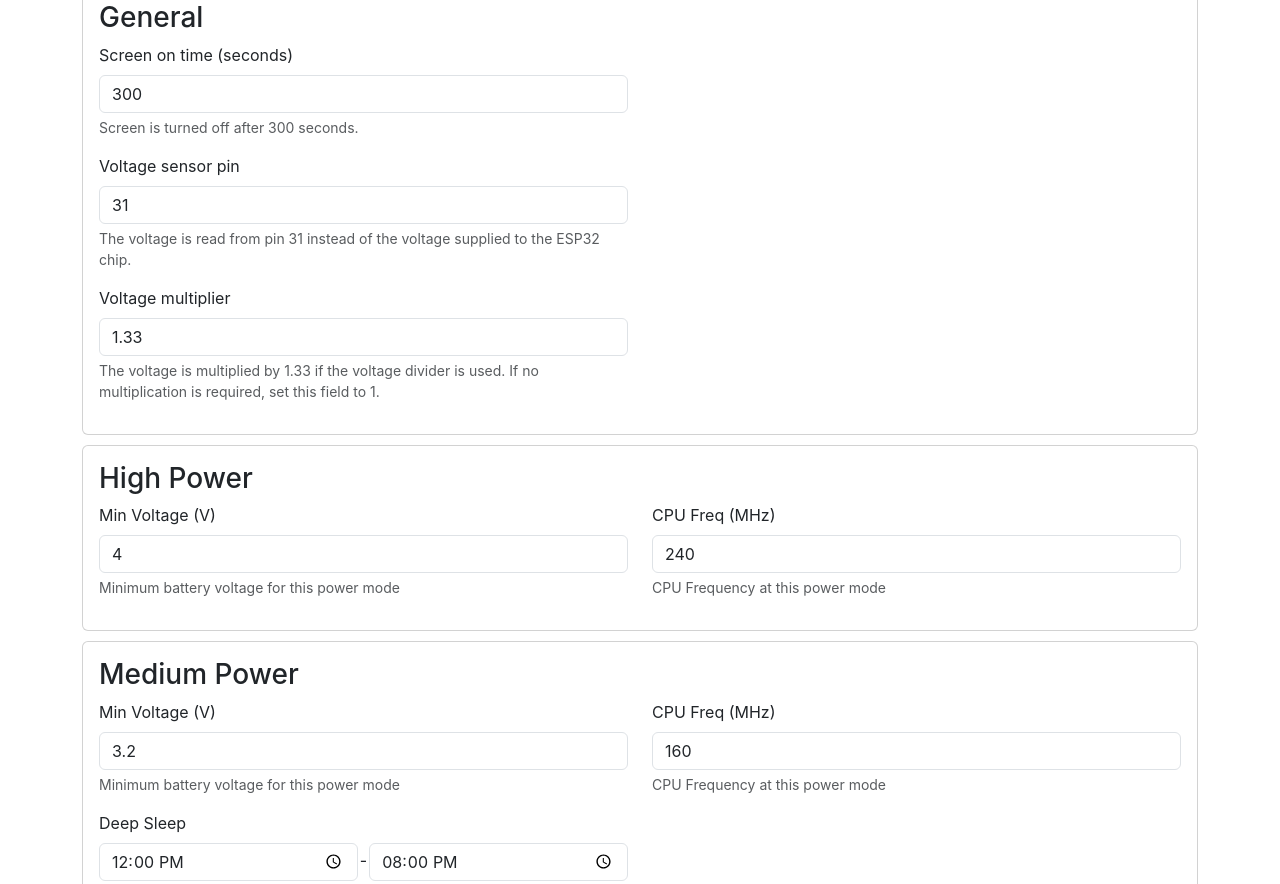
Test: when saving › validation error when incorrect screen on time
Clear the number field with test id "screen-on-seconds" at (364, 94), box [99,75,628,113]
(page scrolled)
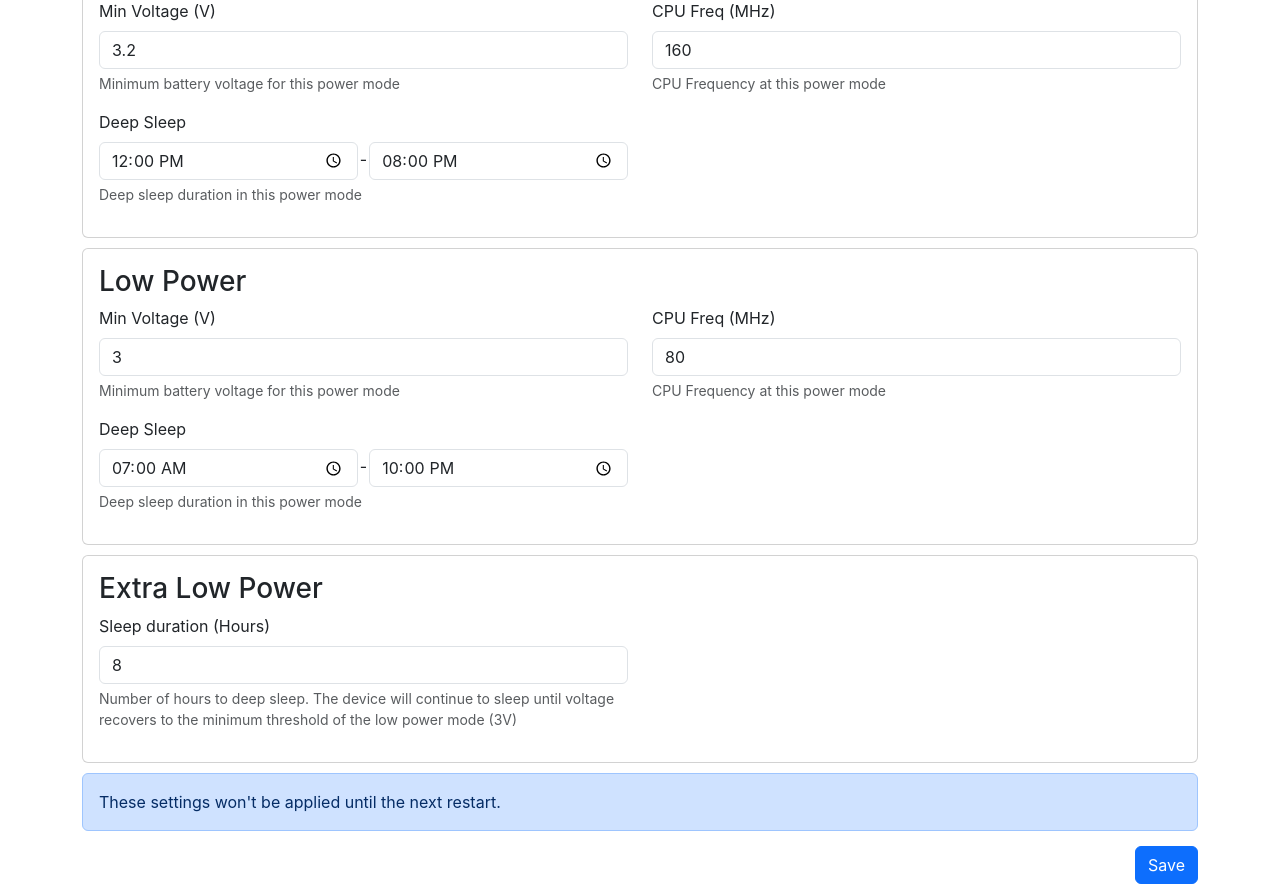
Click the button with test id "save-button".
click(1166, 865)  # box [1135,846,1198,883]
(page scrolled)
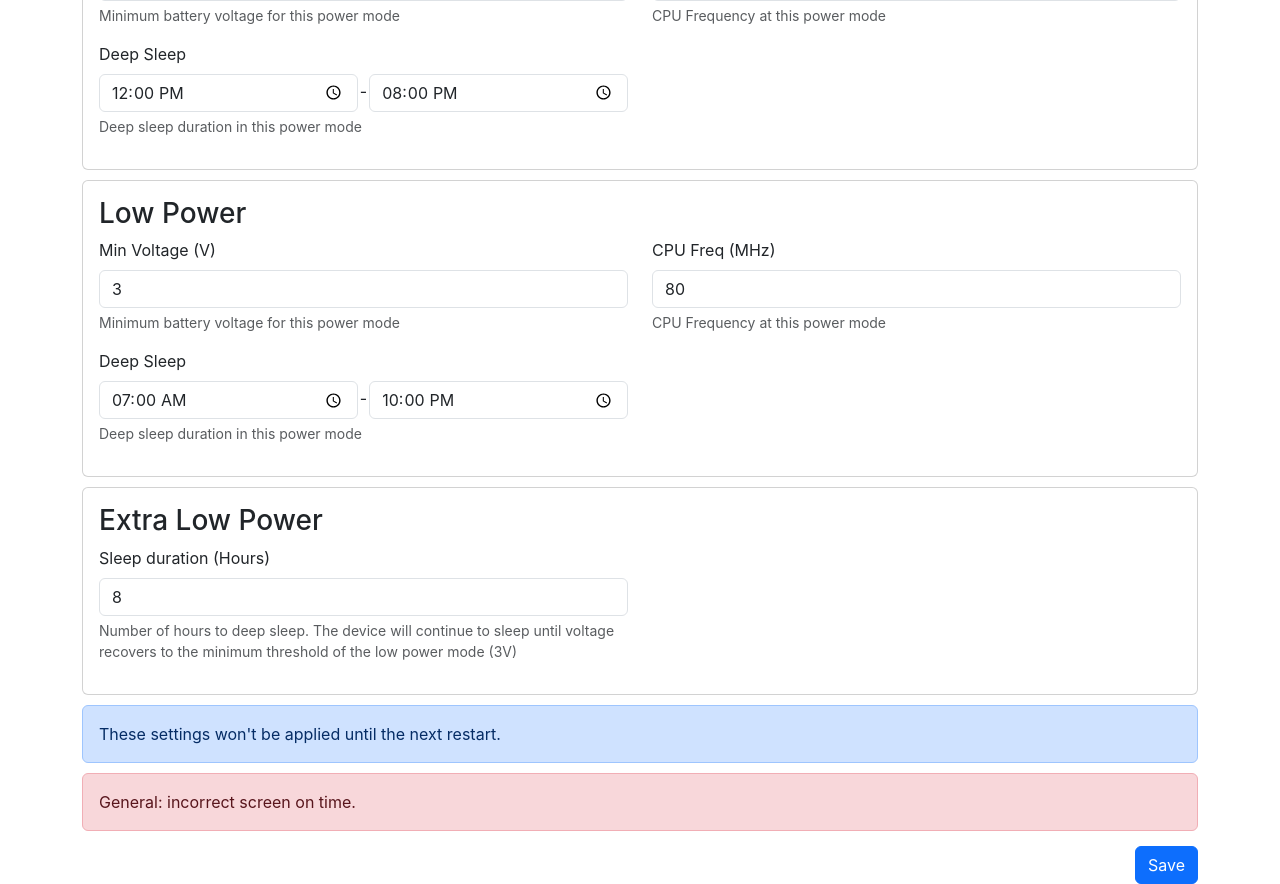
Check: the element with test id "power-config-validation-error" shows "General: incorrect screen on time", box [99,792,356,812]
